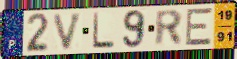2: (25, 12, 50, 55)
9: (122, 8, 148, 50)
E: (184, 7, 214, 48)
L: (91, 11, 116, 51)
R: (154, 9, 184, 49)
V: (52, 11, 85, 52)
